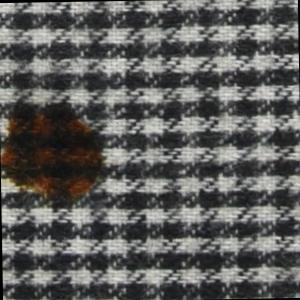Oil Stain: (1, 97, 113, 209)
